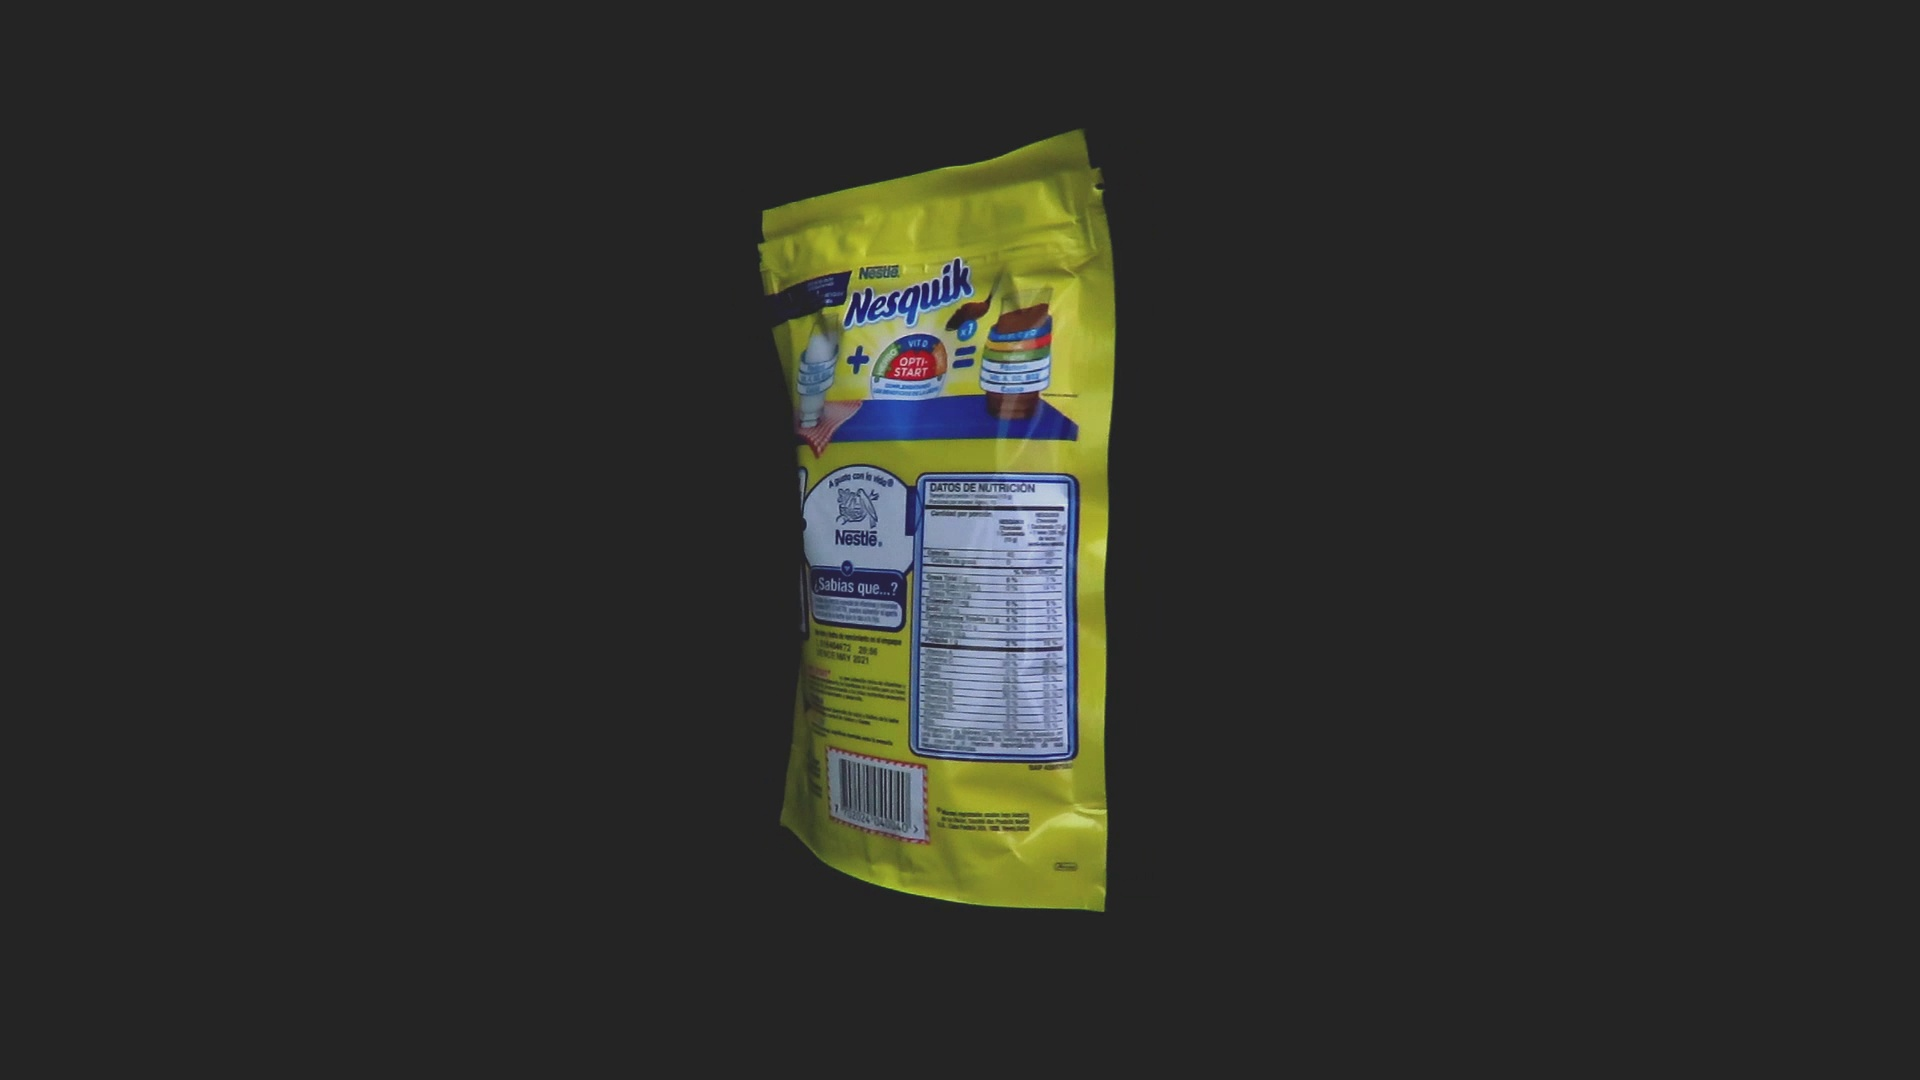COL0170303DYP20000: (752, 123, 1122, 918)
